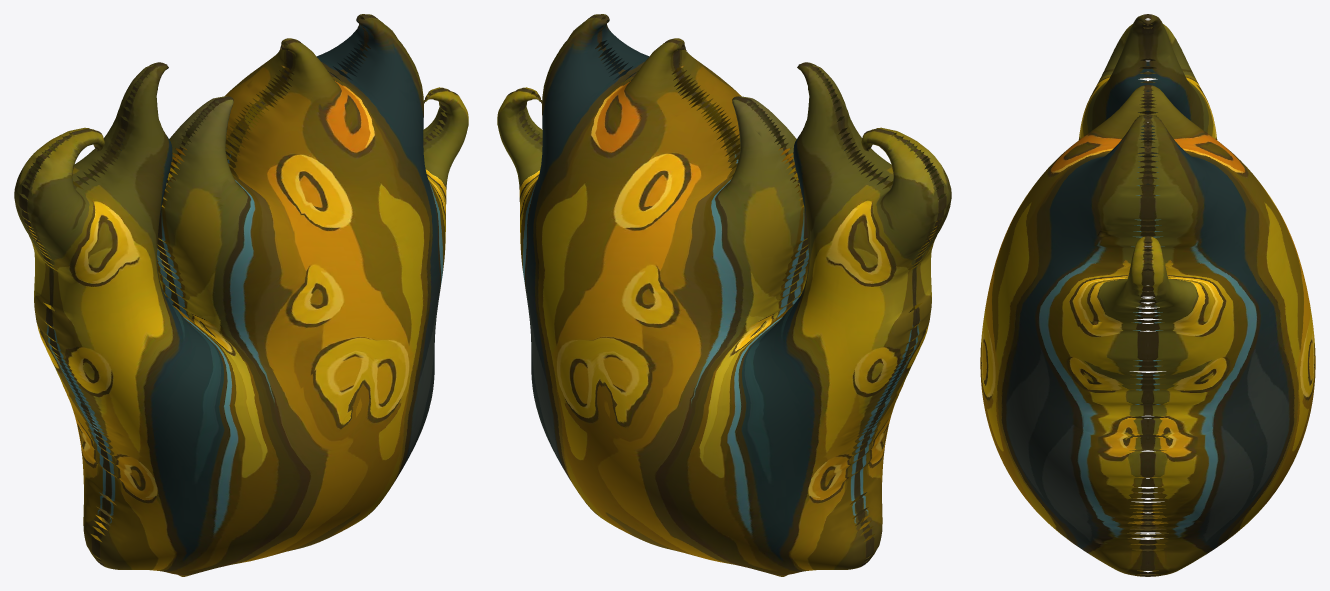
File: wall_root_fan.glb
3 renders of one model, left to right at view 1: azimuth 30°, elevation 25°; view 2: azimuth 150°, elevation 25°; view 3: azimuth 270°, elevation 25°, orthographic. The views are drawn at different scales.
Parts seen in each view (by area): view 1: wall_root_fan; view 2: wall_root_fan; view 3: wall_root_fan.
Boxes of the visible parts, x1=… form: wall_root_fan: x1=14, y1=14, x2=468, y2=576; wall_root_fan: x1=497, y1=14, x2=951, y2=576; wall_root_fan: x1=980, y1=14, x2=1315, y2=576.
Bounding box in the file's own units: 0.988 × 1.07 × 0.6748.
1 material, 1 textured.
